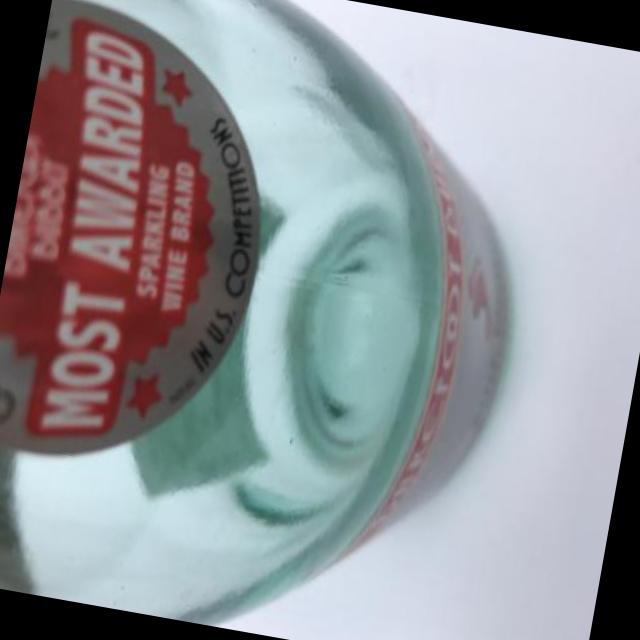chai_thuy_tinh: (0, 0, 507, 626)
